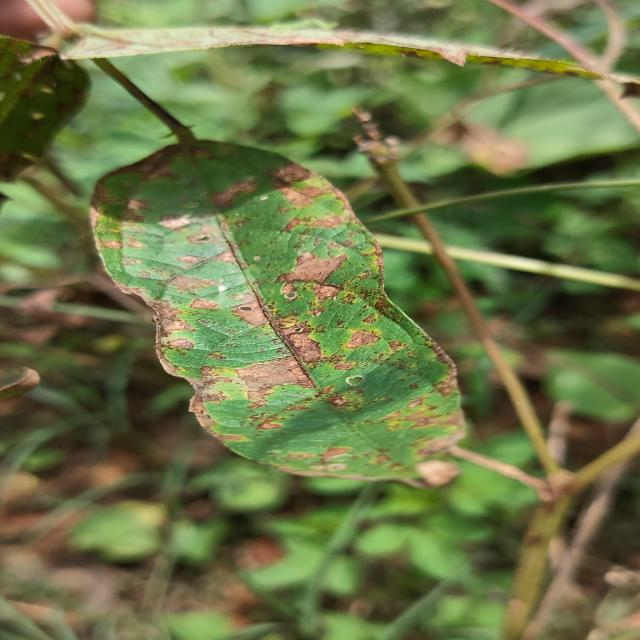Black gram_leaf spot: (90, 140, 464, 486)
